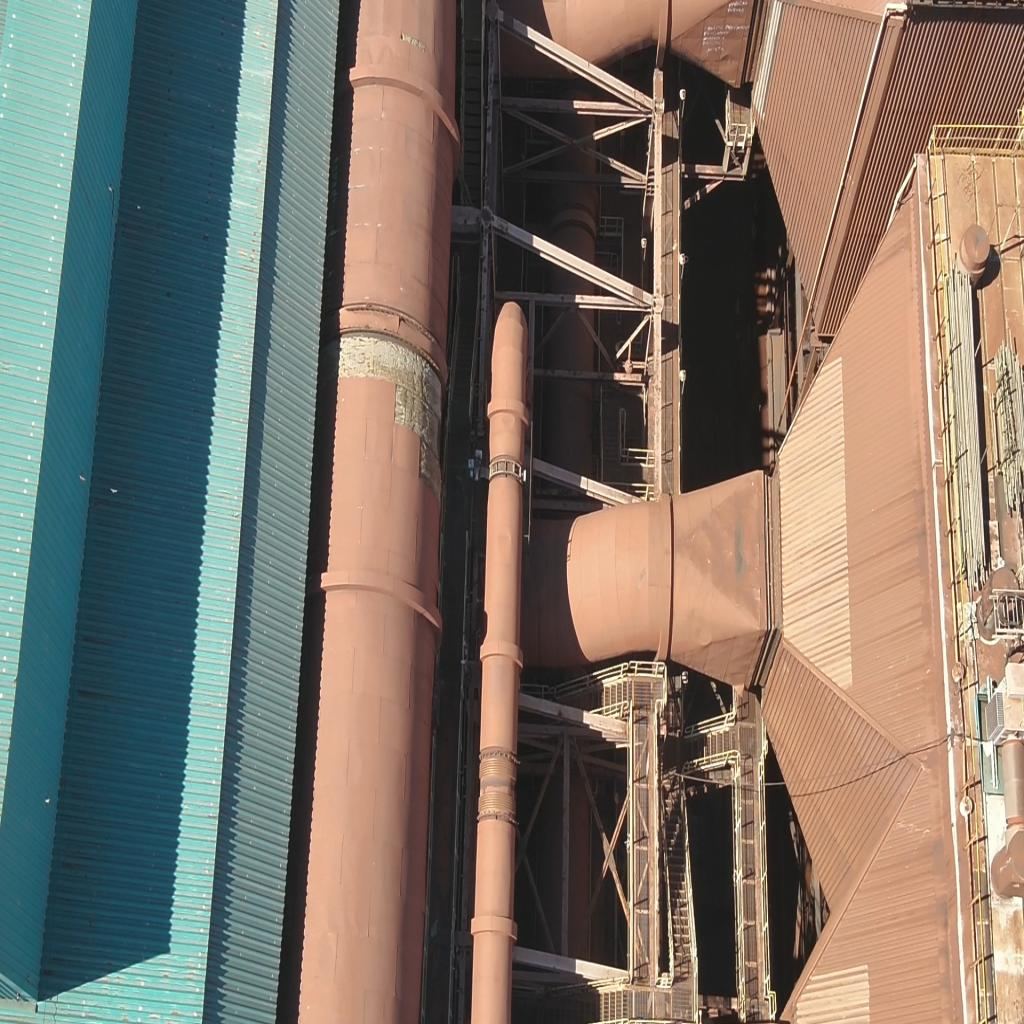Failures: (316, 322, 442, 488)
